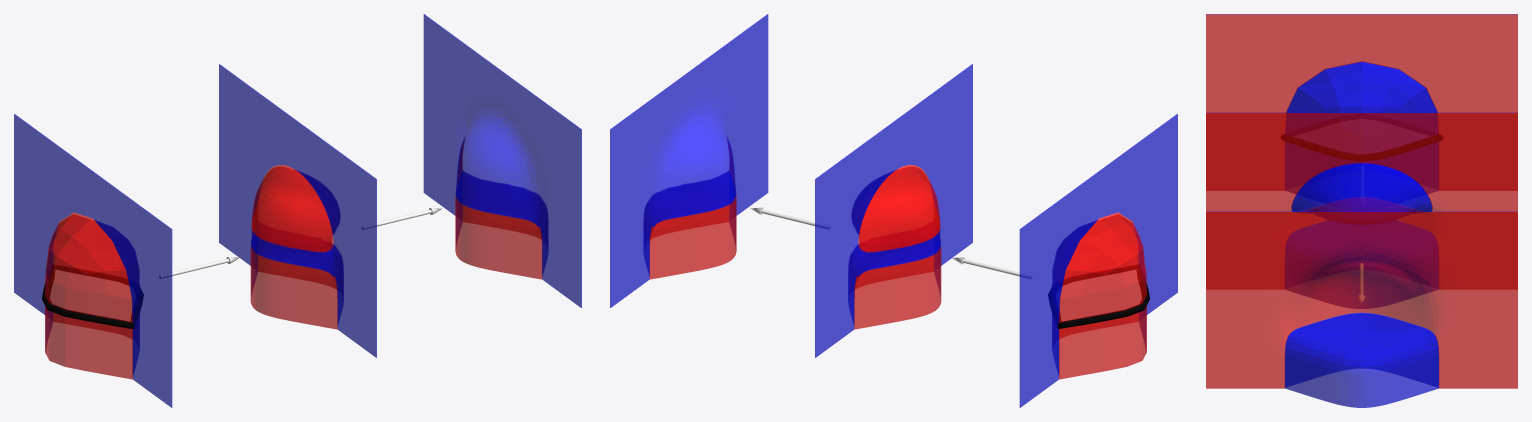
Rendered from reduced2compression.glb.
3 renders of one model, left to right at view 1: azimuth 30°, elevation 25°; view 2: azimuth 150°, elevation 25°; view 3: azimuth 270°, elevation 25°, orthographic.
Visible parts, largest first — view 1: Circle.002, Circle.001, Circle, merid_disk, merid_disk.001; view 2: Circle.002, Circle.001, Circle, merid_disk, merid_disk.001; view 3: Circle.002, Circle.001, Circle, merid_disk.001.
Part boxes in pixels (<box>): Circle.002: <box>423,14,581,307</box>; Circle.001: <box>219,64,376,357</box>; Circle: <box>14,114,172,407</box>; merid_disk: <box>50,270,131,320</box>; merid_disk.001: <box>42,265,143,328</box>; Circle.002: <box>610,14,768,307</box>; Circle.001: <box>815,64,972,357</box>; Circle: <box>1019,114,1177,407</box>; merid_disk: <box>1060,270,1141,321</box>; merid_disk.001: <box>1048,265,1149,328</box>; Circle.002: <box>1206,211,1517,407</box>; Circle.001: <box>1206,112,1517,308</box>; Circle: <box>1206,14,1517,193</box>; merid_disk.001: <box>1281,134,1442,161</box>.
Size of the model in its own units: 7.28 by 2.5 by 4.
